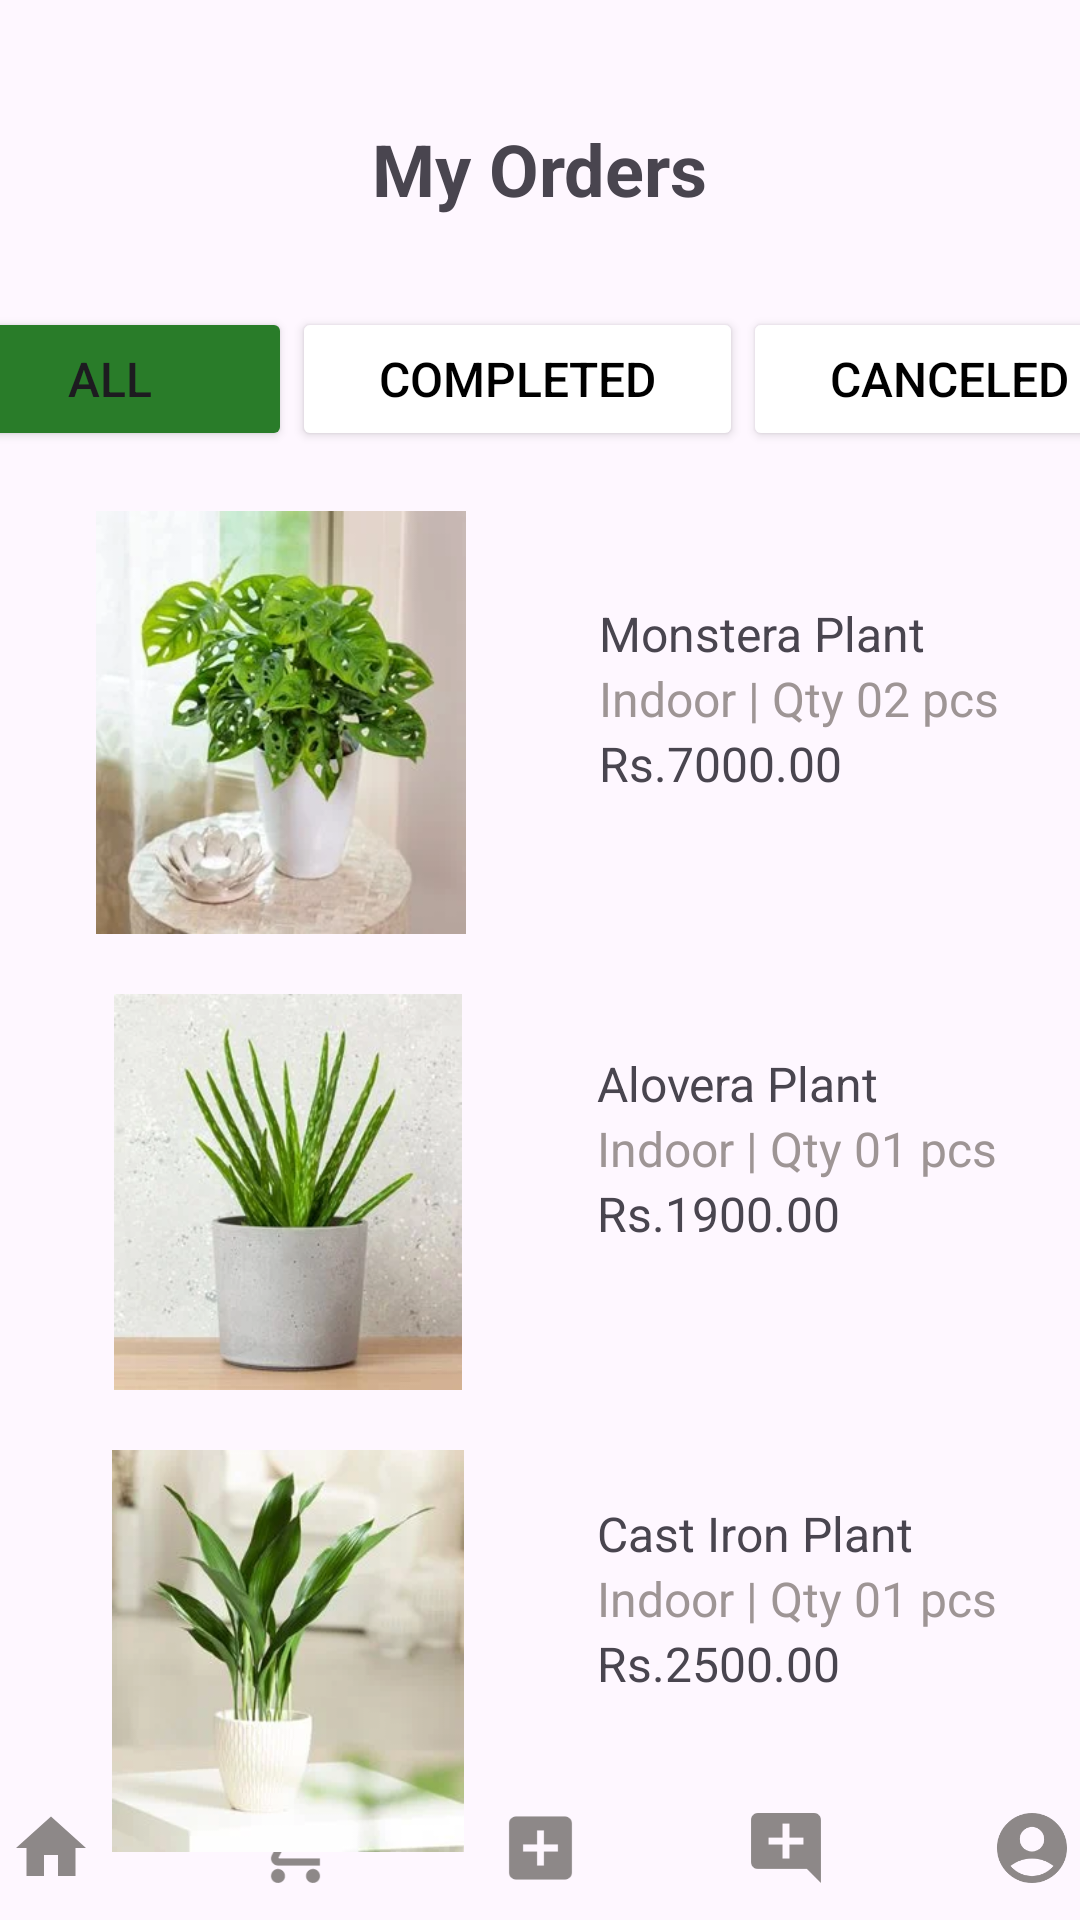

Screen size 1080 x 1920. Icon name, then its box in pixels as Rect(x1, y1, x2, y2):
add box: Rect(509, 1816, 572, 1880)
add comment: Rect(751, 1813, 821, 1883)
